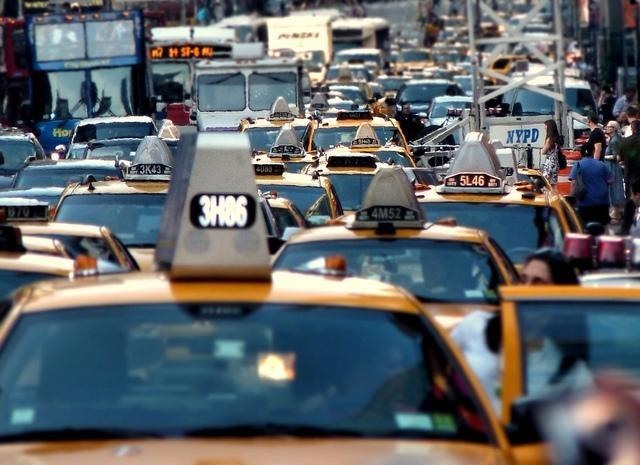bus: (28, 7, 154, 148), (185, 58, 307, 134), (150, 26, 234, 102), (332, 16, 390, 59)
car: (0, 134, 554, 465), (270, 166, 524, 334), (416, 132, 582, 272), (47, 136, 177, 273), (0, 250, 141, 300), (3, 220, 140, 270), (10, 156, 126, 206), (302, 147, 383, 216), (255, 170, 344, 228), (298, 111, 406, 154), (325, 122, 418, 167), (67, 116, 159, 157)
truck: (190, 50, 305, 133), (268, 14, 334, 64)
